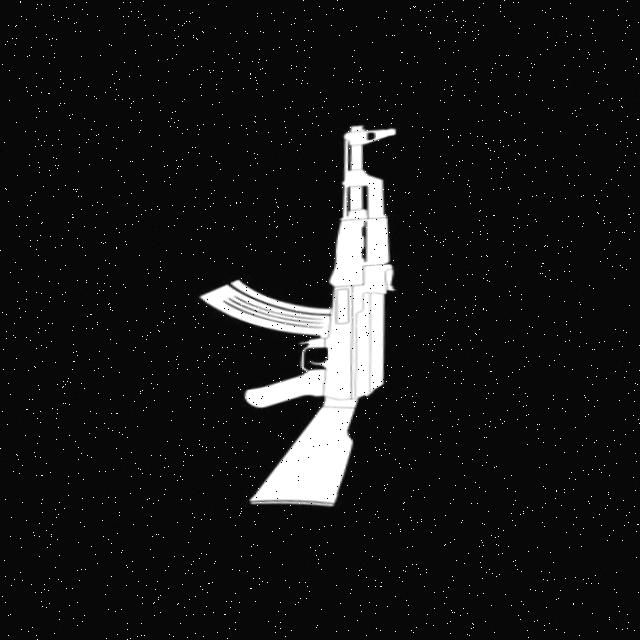firearm: (183, 120, 428, 516)
